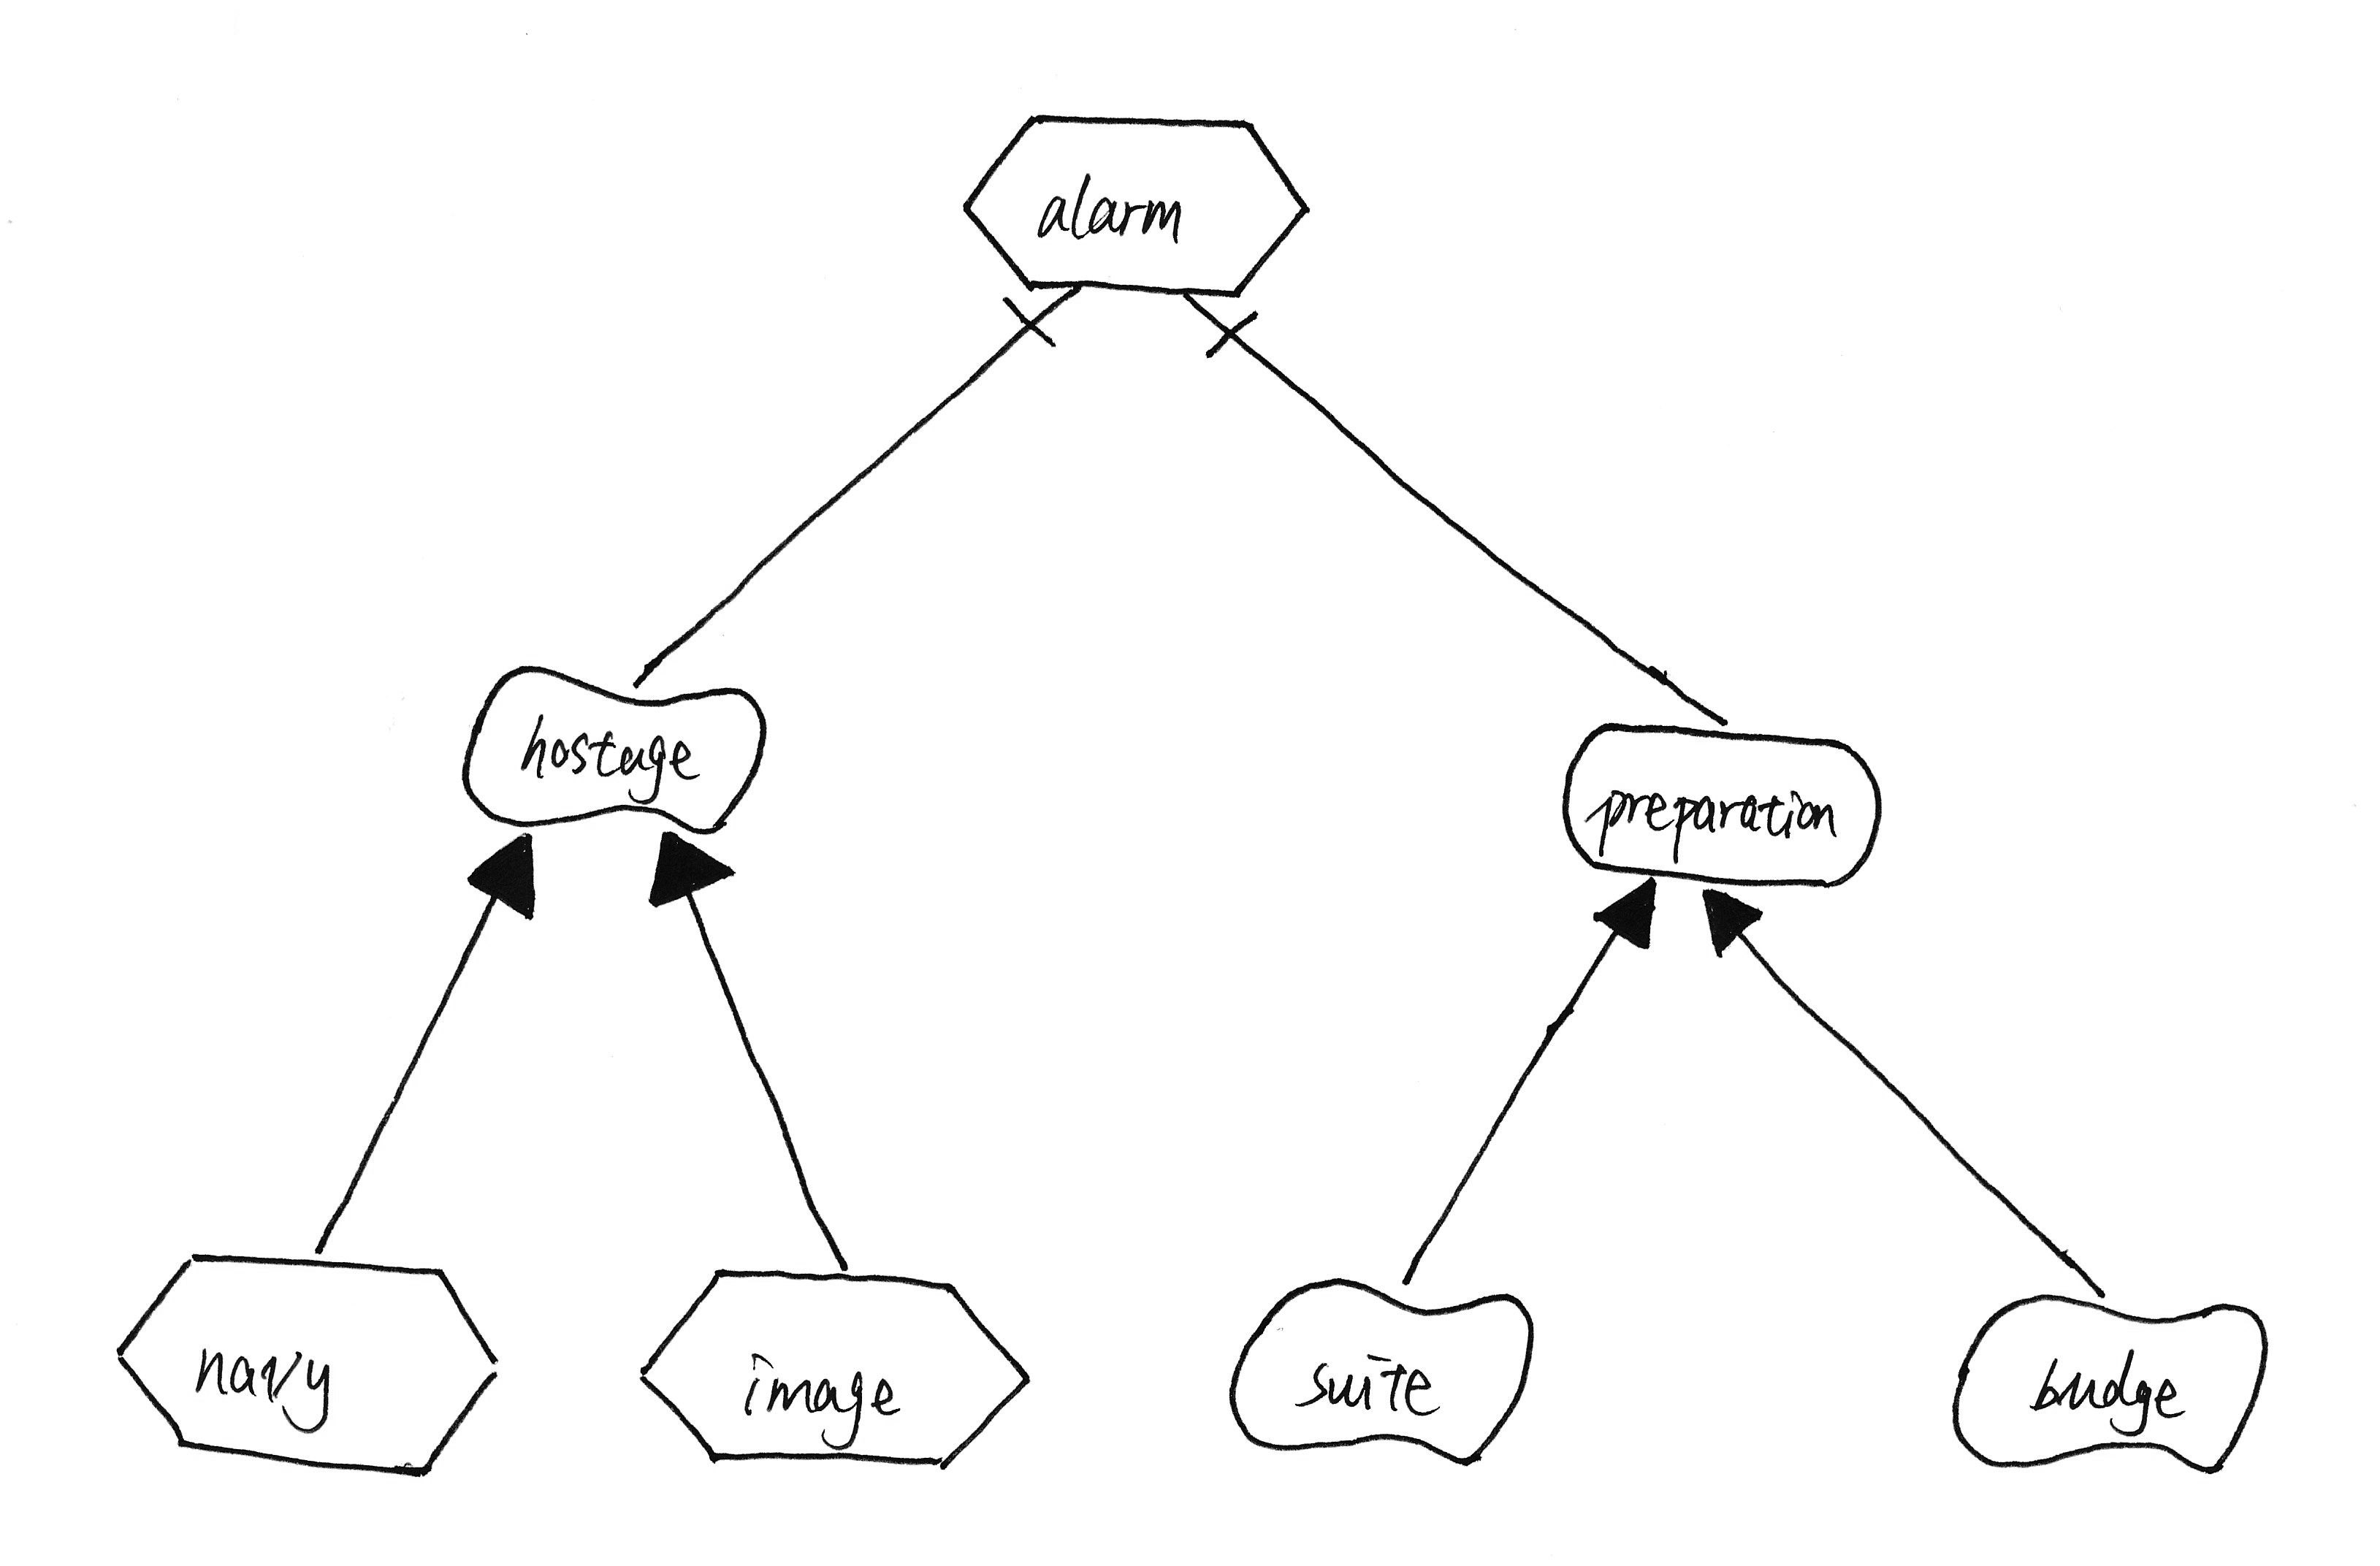and: (987, 290, 1083, 376), (1178, 301, 1274, 381)
goal: (1546, 704, 1905, 900)
or: (636, 823, 758, 923), (451, 823, 563, 930), (1681, 876, 1779, 965), (1583, 869, 1669, 961)
quality: (1214, 1264, 1548, 1475), (1936, 1286, 2284, 1486), (451, 643, 776, 855)
task: (100, 1237, 519, 1494), (624, 1258, 1054, 1484), (944, 86, 1328, 313)
